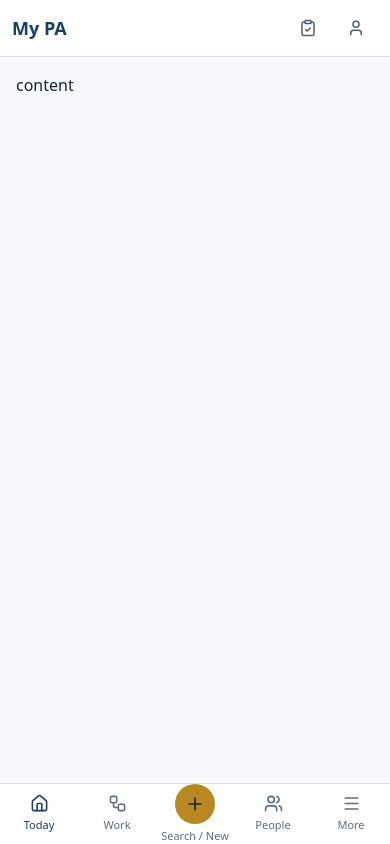
Test case: app shell › opens Capture from the mobile tab
What coordinates should you click on to do the following:
click the button with aria-label "Search or create"
I would click on:
 (195, 814)
Its box is [156,784,234,843].
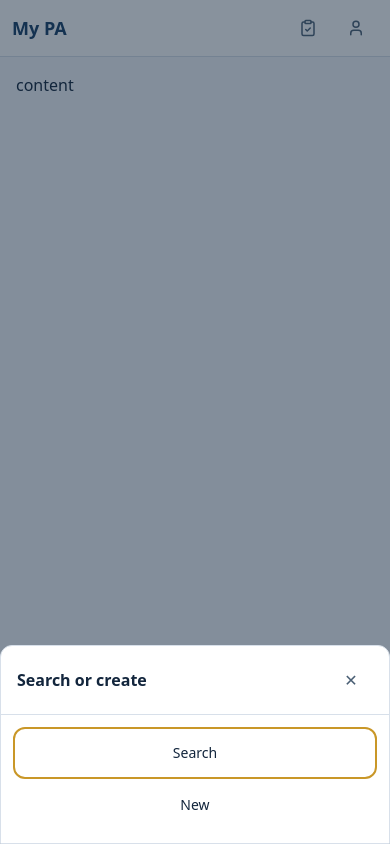
Now the dialog "Search or create" is shown, box [0,645,389,843]
